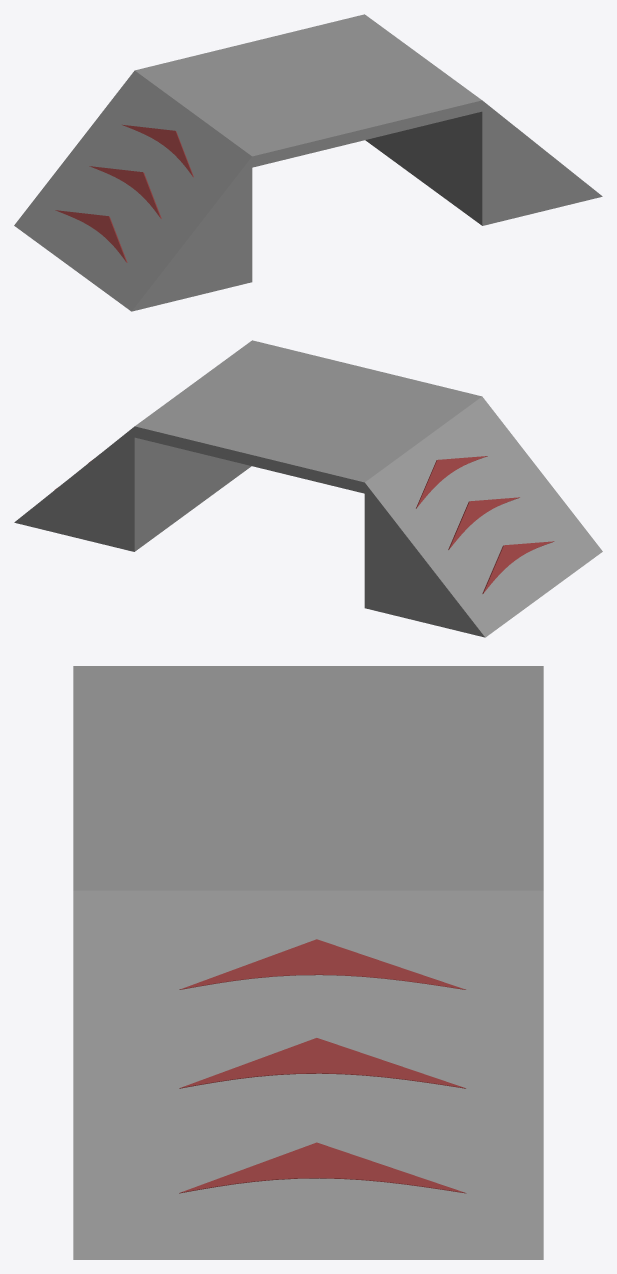
File: qiao01.fbx
3 renders of one model, top to bottom at view 1: azimuth 30°, elevation 25°; view 2: azimuth 150°, elevation 25°; view 3: azimuth 270°, elevation 25°, orthographic. The views are drawn at different scales.
Visible parts, largest first — view 1: 对象007; view 2: 对象007; view 3: 对象007.
Part boxes in pixels (box(x1,y1,x2,y2)): 对象007: box(14, 14, 602, 311); 对象007: box(14, 340, 602, 637); 对象007: box(73, 666, 543, 1259).
Size of the model in its own units: 1289 by 329 by 557.
